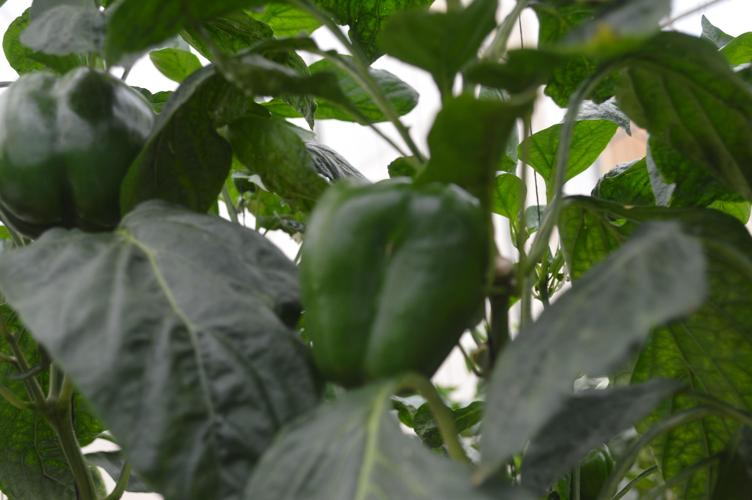BellPepper: (291, 175, 487, 394), (7, 75, 151, 227)
